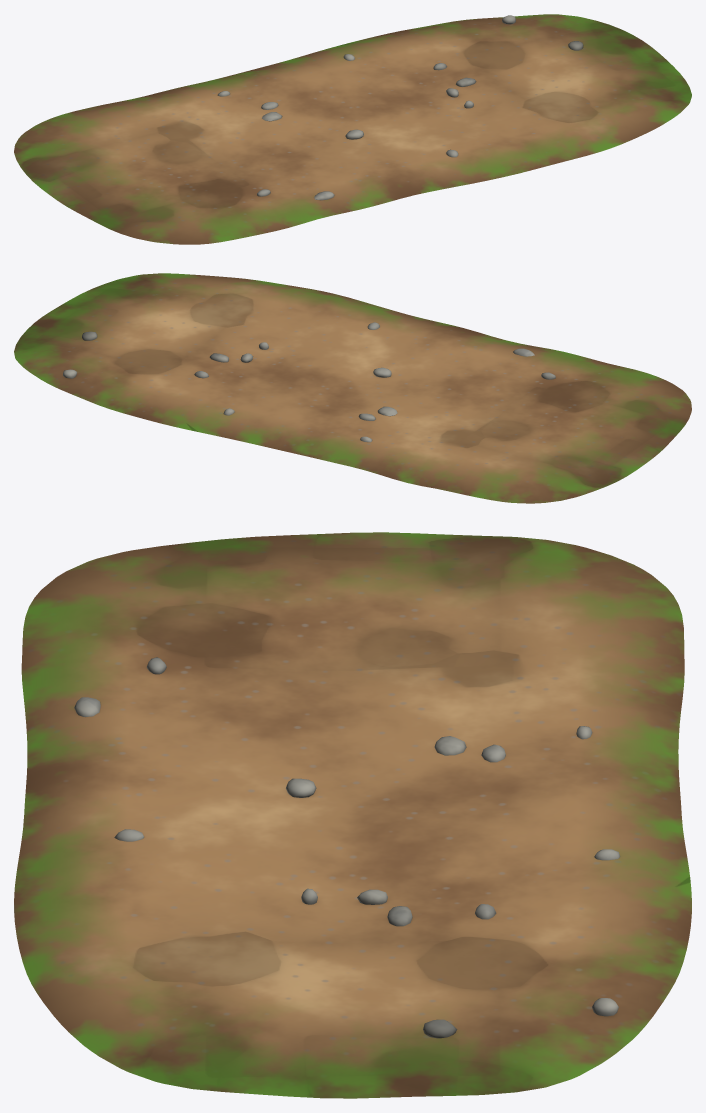
File: path_dirt_segment.glb
3 views of the same model, one above another, from view 1: azimuth 30°, elevation 25°; view 2: azimuth 150°, elevation 25°; view 3: azimuth 270°, elevation 25° (orthographic). The views are drawn at different scales.
Parts seen in each view (by area): view 1: path_dirt_segment; view 2: path_dirt_segment; view 3: path_dirt_segment.
Part boxes in pixels (x1=…): path_dirt_segment: x1=14, y1=14, x2=691, y2=244; path_dirt_segment: x1=14, y1=273, x2=691, y2=503; path_dirt_segment: x1=14, y1=532, x2=691, y2=1098.
Bounding box in the file's own units: 4.01 × 0.0702 × 2.03.
1 material, 1 textured.
